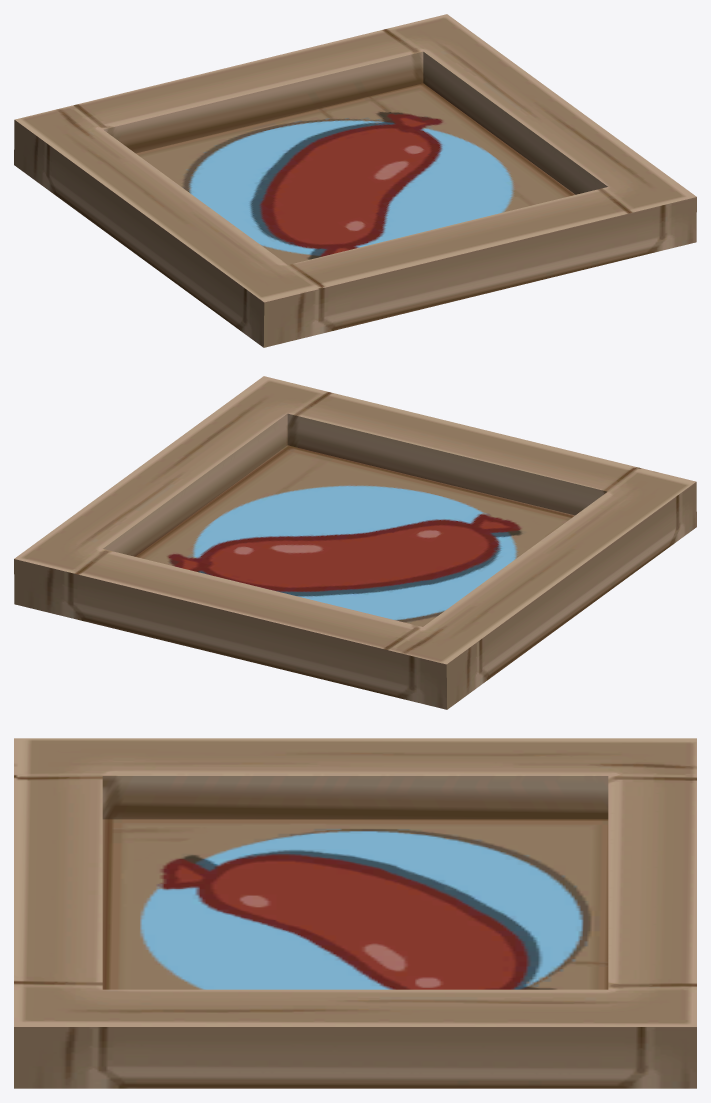
Rendered from CrateLid_Pepperoni.obj.
3 renders of one model, top to bottom at view 1: azimuth 30°, elevation 25°; view 2: azimuth 150°, elevation 25°; view 3: azimuth 270°, elevation 25°, orthographic. The views are drawn at different scales.
Parts seen in each view (by area): view 1: CrateLid_mesh-sharedassets2.assets-136; view 2: CrateLid_mesh-sharedassets2.assets-136; view 3: CrateLid_mesh-sharedassets2.assets-136.
Boxes of the visible parts, x1,y1,x2,y2 form: CrateLid_mesh-sharedassets2.assets-136: (14, 14, 696, 347); CrateLid_mesh-sharedassets2.assets-136: (14, 376, 696, 709); CrateLid_mesh-sharedassets2.assets-136: (14, 738, 696, 1088).
Size of the model in its own units: 1 by 0.1 by 1.
